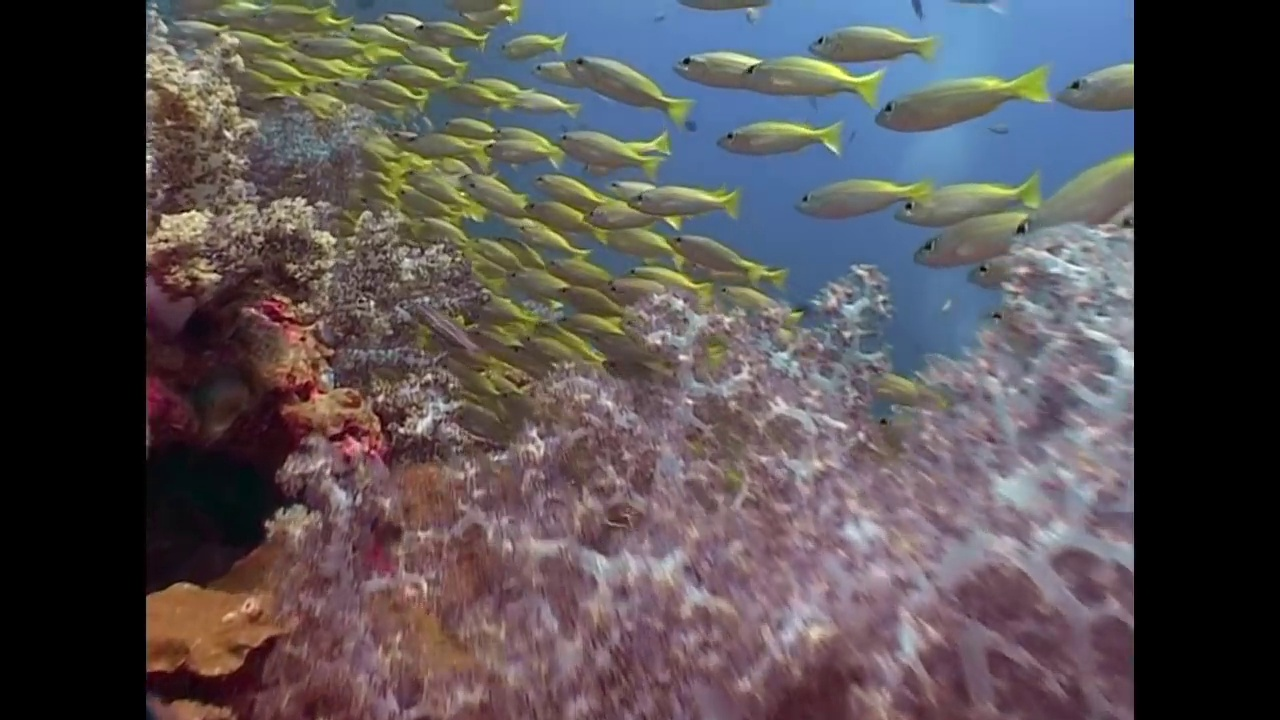big eye snapper: (875, 64, 1047, 133), (565, 44, 689, 126), (742, 51, 879, 110), (897, 172, 1038, 217), (807, 22, 937, 66), (892, 194, 1035, 231), (915, 217, 1004, 271), (554, 127, 656, 173), (789, 180, 931, 213), (624, 182, 740, 220), (706, 124, 839, 157), (673, 237, 760, 282), (324, 74, 404, 117), (671, 46, 754, 86), (1057, 62, 1129, 108), (629, 261, 705, 302), (531, 164, 600, 206), (516, 213, 584, 255), (412, 15, 488, 51), (500, 84, 574, 118), (464, 175, 528, 212), (582, 198, 657, 229), (444, 78, 509, 111), (294, 37, 378, 62), (555, 283, 620, 315), (407, 130, 483, 155), (484, 136, 556, 162), (524, 333, 578, 367), (467, 233, 518, 268), (360, 73, 422, 101), (493, 31, 562, 55), (504, 265, 556, 296), (395, 188, 449, 217), (213, 25, 284, 47), (405, 166, 460, 193), (525, 59, 576, 79), (373, 10, 416, 30)
